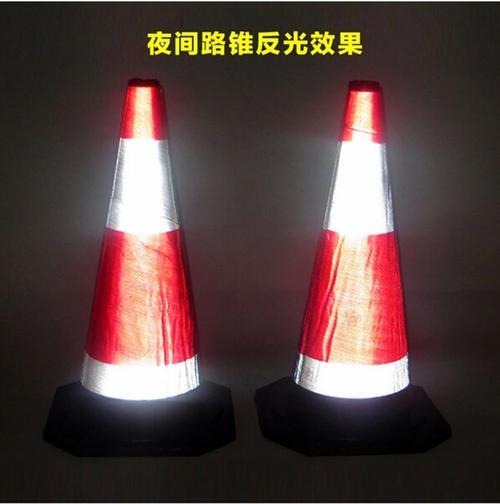cone_barrel: (264, 83, 440, 452), (51, 82, 219, 460)
